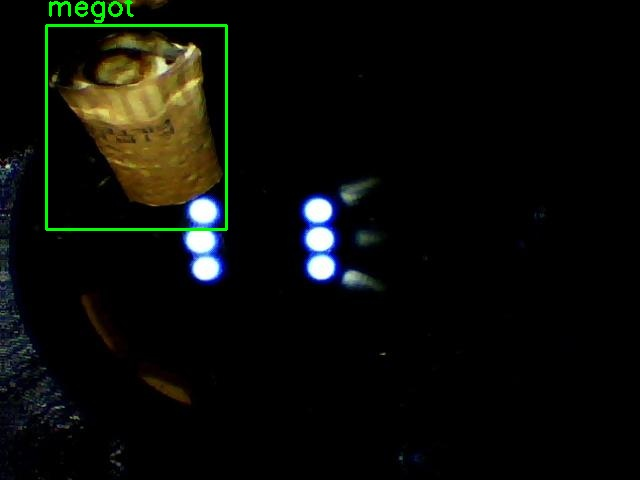megot: (46, 25, 226, 229)
